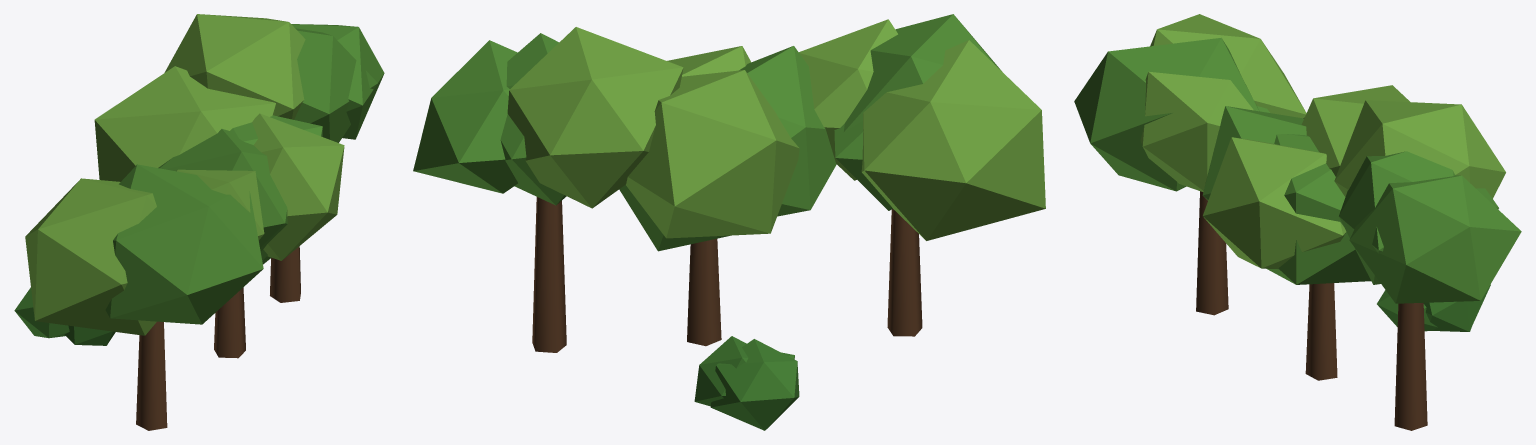
File: sawyer_temperate_grove_b.glb
The picture shows the model from 3 angles, left to right: view 1: azimuth 30°, elevation 25°; view 2: azimuth 150°, elevation 25°; view 3: azimuth 270°, elevation 25°; orthographic projection. The views are drawn at different scales.
Visible parts, largest first — view 1: oak_1_crown2, oak_1_crown3, oak_2_crown3, oak_0_crown1, oak_2_crown1, oak_0_crown0, oak_2_crown2, oak_0_crown2, oak_1_trunk, oak_1_crown1, oak_2_trunk, oak_0_trunk (+3 smaller); view 2: oak_1_crown3, oak_2_crown3, oak_0_crown1, oak_0_crown2, oak_2_crown2, oak_1_crown1, oak_1_crown2, bush_3_leaves2, oak_0_trunk, oak_1_trunk, oak_2_trunk, oak_0_crown0 (+4 smaller); view 3: oak_0_crown2, oak_2_crown1, oak_1_crown2, oak_0_crown1, oak_1_crown1, oak_2_crown0, oak_1_crown3, oak_0_crown0, oak_0_trunk, oak_2_crown3, oak_2_crown2, oak_2_trunk (+3 smaller).
Part boxes in pixels (x1=…): oak_1_crown2: x1=105, y1=164, x2=263, y2=324; oak_1_crown3: x1=25, y1=178, x2=156, y2=335; oak_2_crown3: x1=94, y1=66, x2=275, y2=181; oak_0_crown1: x1=164, y1=14, x2=305, y2=119; oak_2_crown1: x1=252, y1=113, x2=344, y2=260; oak_0_crown0: x1=294, y1=28, x2=377, y2=142; oak_2_crown2: x1=158, y1=129, x2=287, y2=251; oak_0_crown2: x1=291, y1=24, x2=384, y2=139; oak_1_trunk: x1=136, y1=321, x2=167, y2=430; oak_1_crown1: x1=176, y1=169, x2=264, y2=240; oak_2_trunk: x1=214, y1=287, x2=245, y2=358; oak_0_trunk: x1=270, y1=246, x2=300, y2=302; oak_1_crown3: x1=861, y1=40, x2=1045, y2=240; oak_2_crown3: x1=626, y1=70, x2=799, y2=238; oak_0_crown1: x1=507, y1=27, x2=683, y2=208; oak_0_crown2: x1=413, y1=40, x2=517, y2=193; oak_2_crown2: x1=739, y1=46, x2=836, y2=216; oak_1_crown1: x1=799, y1=19, x2=897, y2=180; oak_1_crown2: x1=834, y1=14, x2=1001, y2=142; bush_3_leaves2: x1=710, y1=339, x2=799, y2=430; oak_0_trunk: x1=532, y1=197, x2=566, y2=352; oak_1_trunk: x1=887, y1=209, x2=922, y2=336; oak_2_trunk: x1=687, y1=238, x2=721, y2=346; oak_0_crown0: x1=500, y1=33, x2=566, y2=205; oak_0_crown2: x1=1349, y1=175, x2=1521, y2=303; oak_2_crown1: x1=1203, y1=137, x2=1346, y2=269; oak_1_crown2: x1=1074, y1=37, x2=1259, y2=191; oak_0_crown1: x1=1334, y1=100, x2=1505, y2=198; oak_1_crown1: x1=1140, y1=71, x2=1253, y2=191; oak_2_crown0: x1=1266, y1=134, x2=1370, y2=284; oak_1_crown3: x1=1150, y1=14, x2=1306, y2=118; oak_0_crown0: x1=1339, y1=151, x2=1498, y2=284; oak_0_trunk: x1=1394, y1=303, x2=1427, y2=430; oak_2_crown3: x1=1301, y1=85, x2=1409, y2=176; oak_2_crown2: x1=1202, y1=106, x2=1306, y2=200; oak_2_trunk: x1=1305, y1=283, x2=1337, y2=380.
Bounding box in the file's own units: 4.9 × 3.03 × 4.12.
